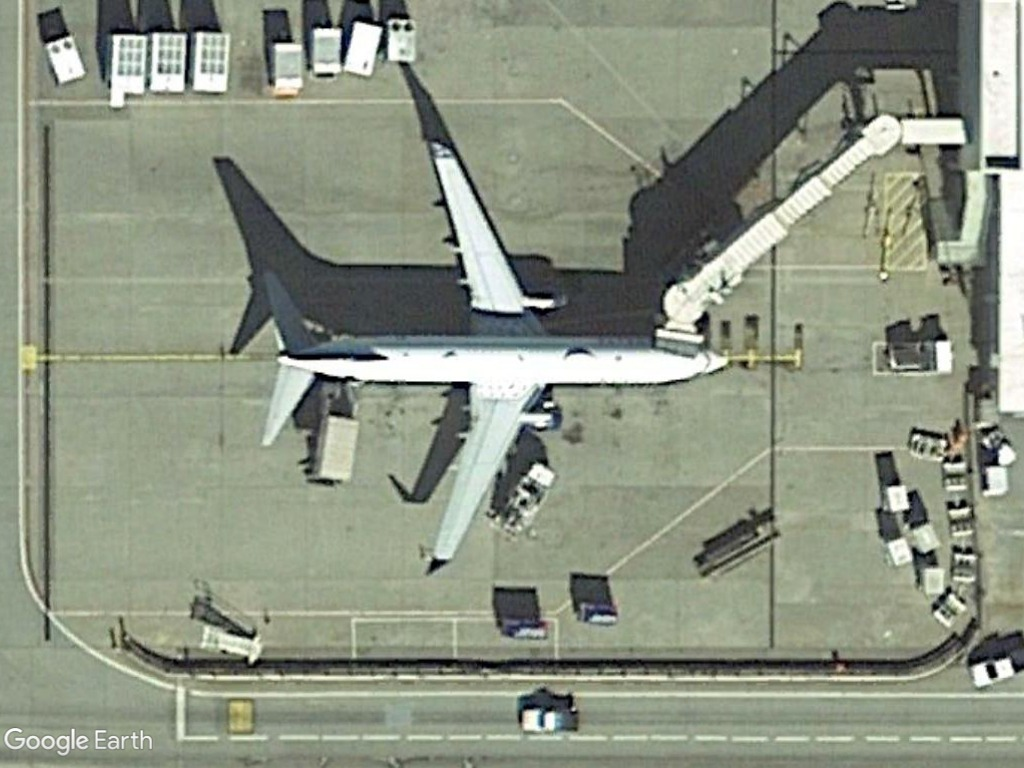airliner: (253, 131, 740, 580)
